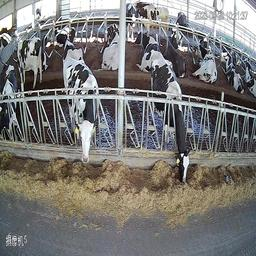cow: (150, 51, 190, 185), (61, 58, 100, 173), (16, 36, 42, 88), (1, 64, 17, 141), (192, 42, 218, 87), (138, 5, 169, 39), (161, 35, 185, 78), (134, 30, 159, 71), (225, 52, 244, 96), (104, 31, 123, 72), (54, 25, 76, 47), (173, 8, 187, 42), (126, 1, 137, 41), (246, 63, 255, 101), (107, 21, 118, 43)
